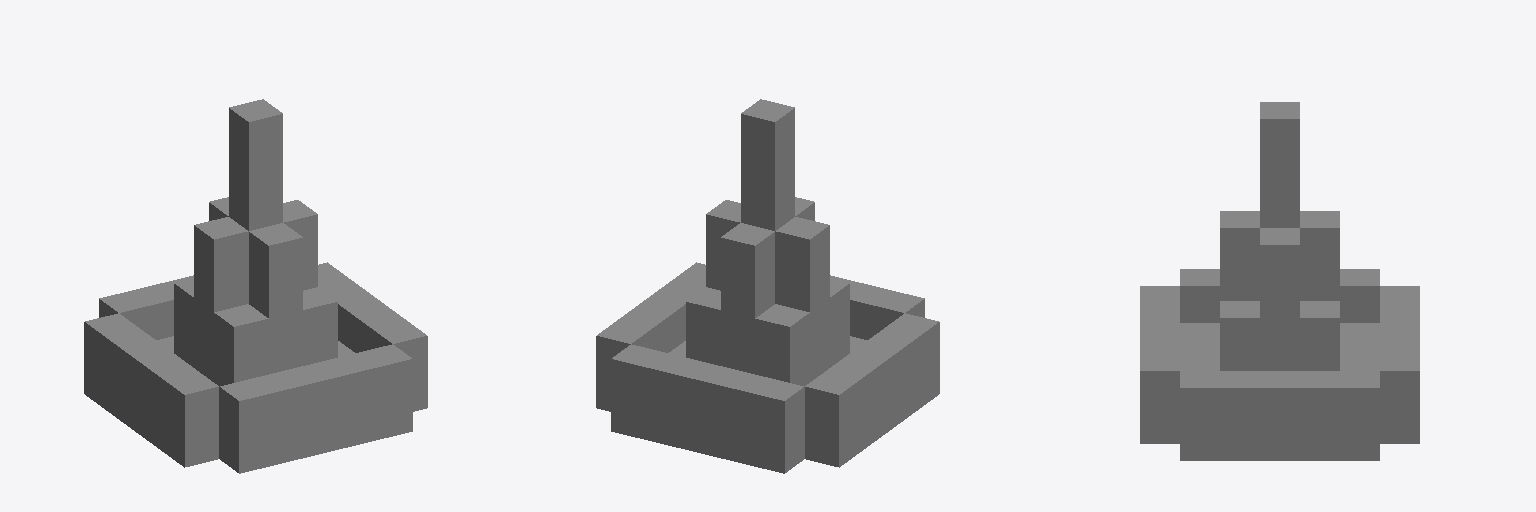
3 renders of one model, left to right at view 1: azimuth 30°, elevation 25°; view 2: azimuth 150°, elevation 25°; view 3: azimuth 270°, elevation 25°, orthographic.
Visible parts, largest first — view 1: object 1; view 2: object 1; view 3: object 1.
Part boxes in pixels (x1,y1,x2,y2): object 1: (84, 99, 427, 473); object 1: (596, 99, 939, 473); object 1: (1140, 102, 1419, 460).
Size of the model in its own units: 0.7 by 0.8 by 0.7.
Materials: 1 (1 with a texture image).